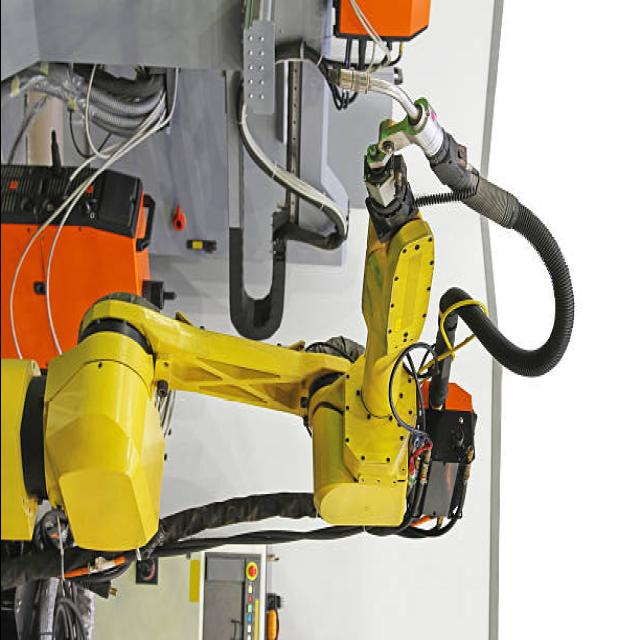Robotic-arm: (0, 127, 448, 574)
